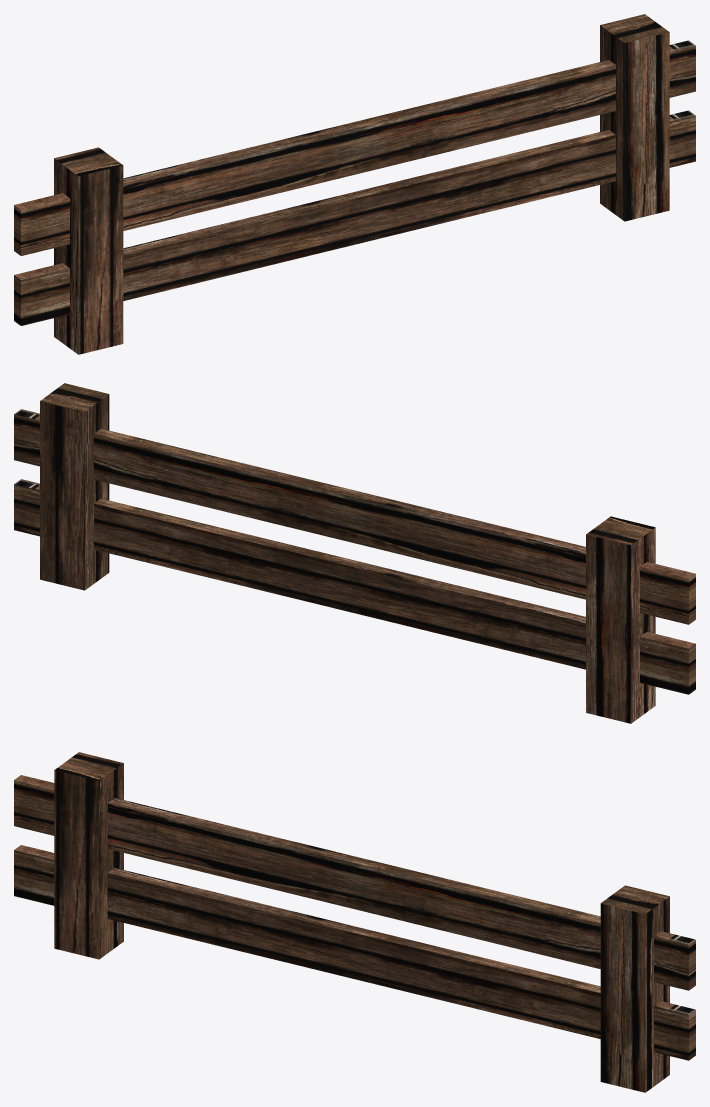
File: wooden-fence.fbx
The picture shows the model from 3 angles, top to bottom: view 1: azimuth 30°, elevation 25°; view 2: azimuth 150°, elevation 25°; view 3: azimuth 330°, elevation 25°; orthographic projection.
Visible parts, largest first — view 1: Plane.064; view 2: Plane.064; view 3: Plane.064.
Part boxes in pixels (x1,y1,x2,y2): Plane.064: [14, 14, 695, 354]; Plane.064: [14, 383, 695, 723]; Plane.064: [14, 752, 695, 1092].
Bounding box in the file's own units: 482 × 122 × 30.43.
